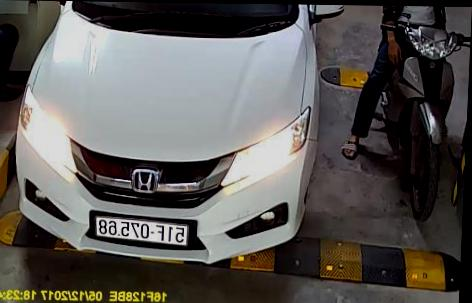License_Plate: (88, 215, 197, 251)
